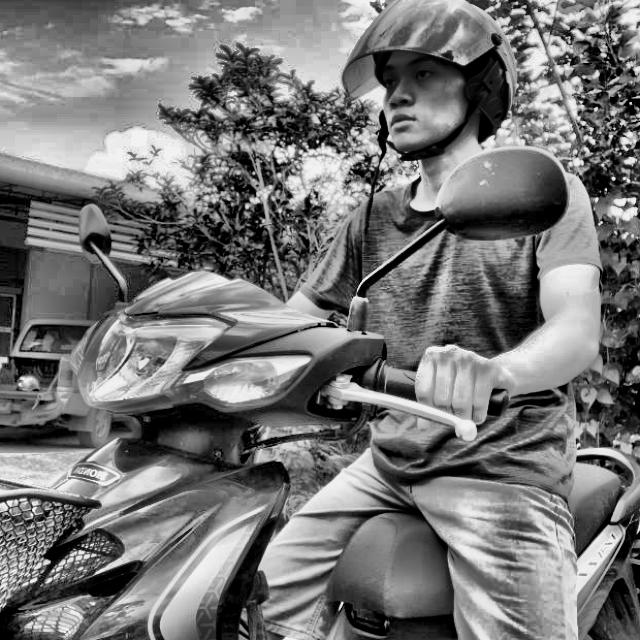Helmet: (336, 0, 522, 164)
